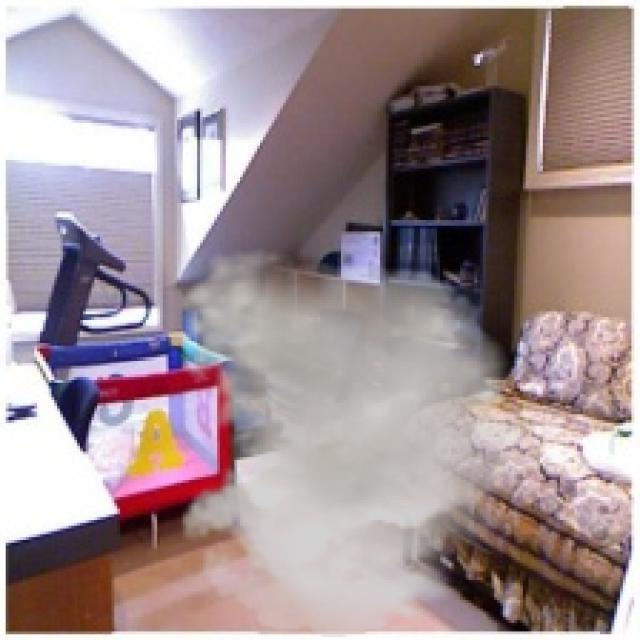Smoke: (165, 248, 560, 638)
